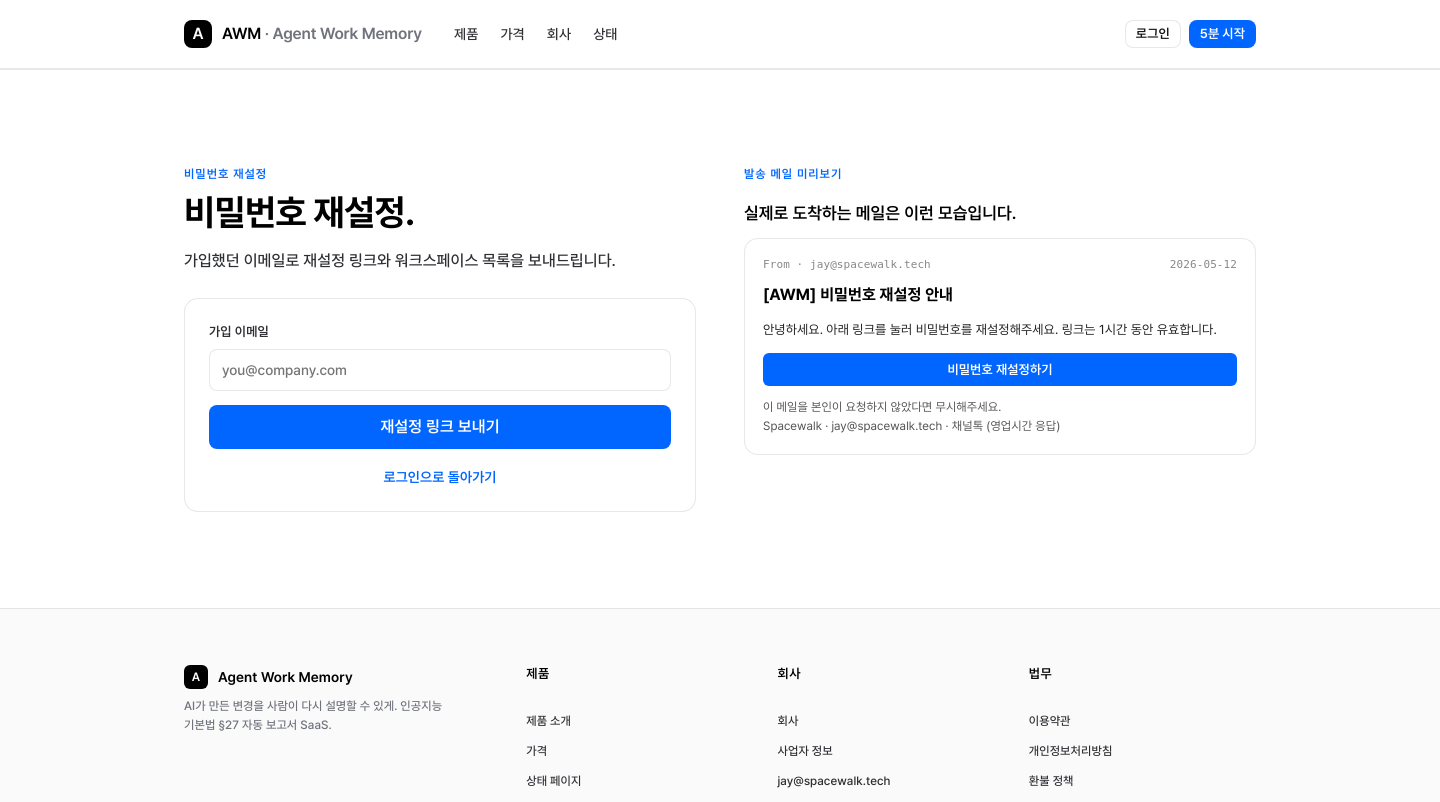
Test case: AppShell + product IA › Reset /reset — submit toggles sent state + mail preview
Expected: the heading "비밀번호 재설정." is shown, [184, 191, 414, 234]
Expected: the button "재설정 링크 보내기" is shown, [209, 405, 671, 449]
# submit → sent state
Type "someone@company.com" into the field labelled "가입 이메일" at point(440, 370), box [209, 349, 671, 391]
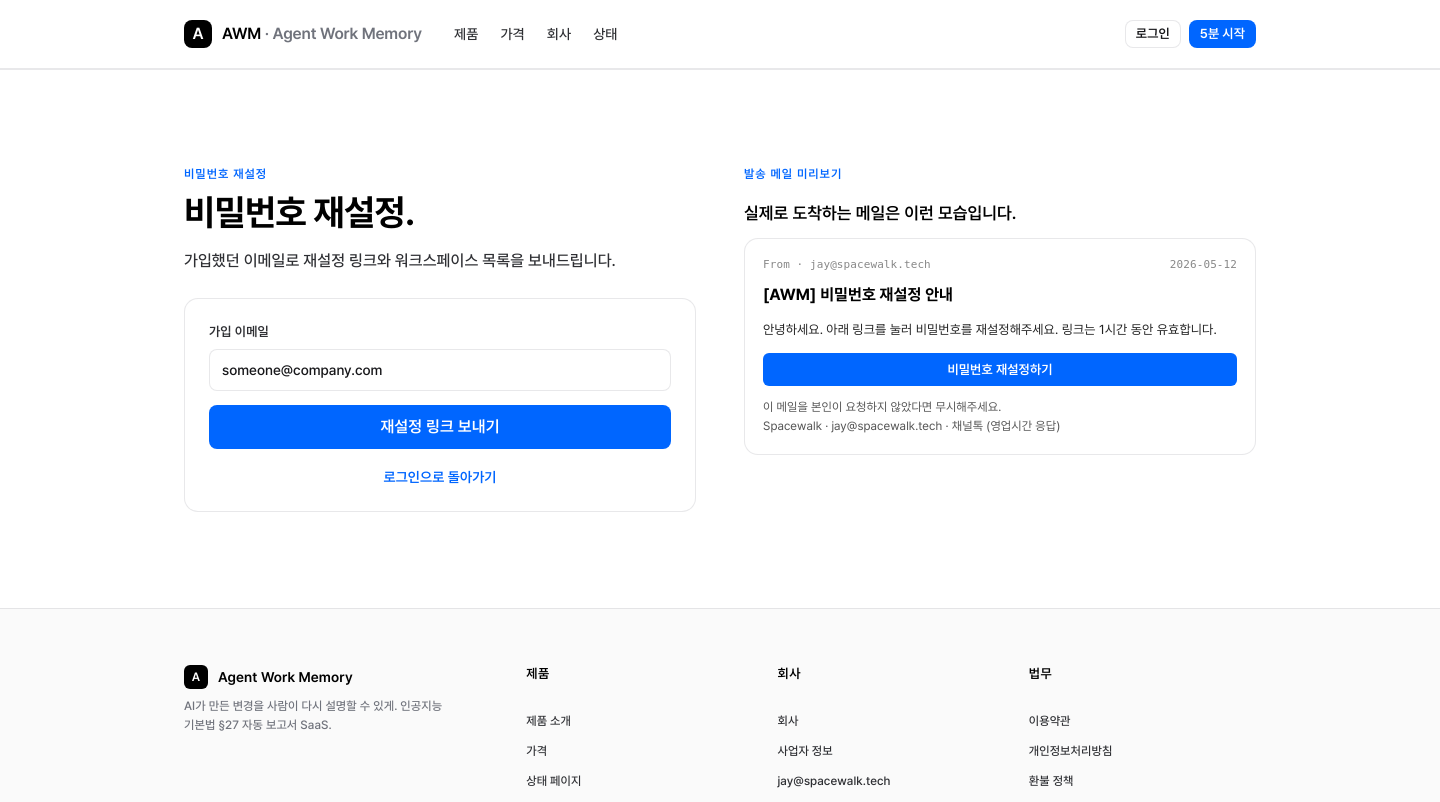
Submit the form, box [184, 298, 696, 512]
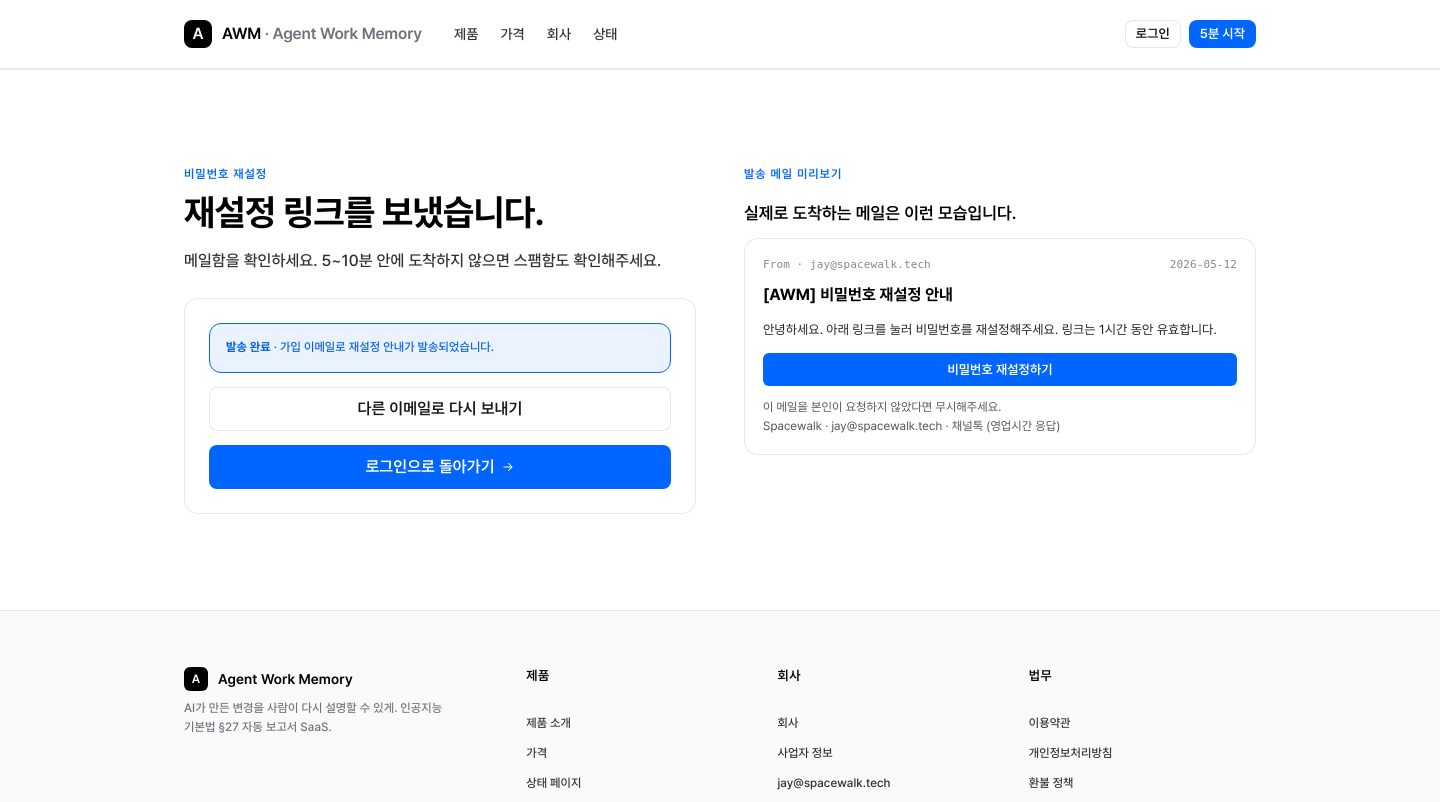
Now the heading "재설정 링크를 보냈습니다." is shown, box [184, 191, 544, 234]
Now the message shows "발송 완료", box [226, 340, 271, 354]
# 다시 보내기 → 폼 복귀
Click the button "다른 이메일로 다시 보내기" at point(440, 409), box [209, 387, 671, 431]
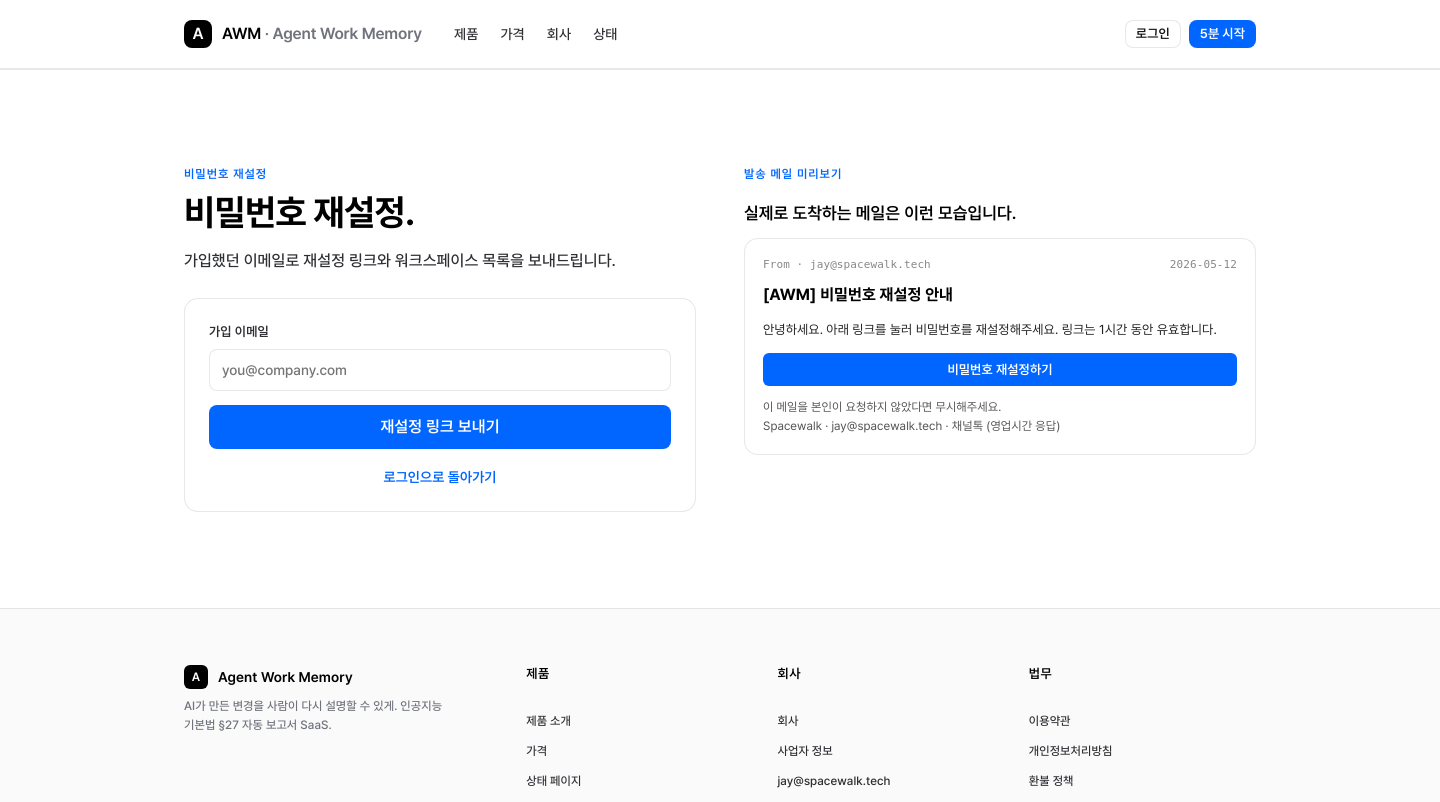
Now the heading "비밀번호 재설정." is shown, box [184, 191, 414, 234]
